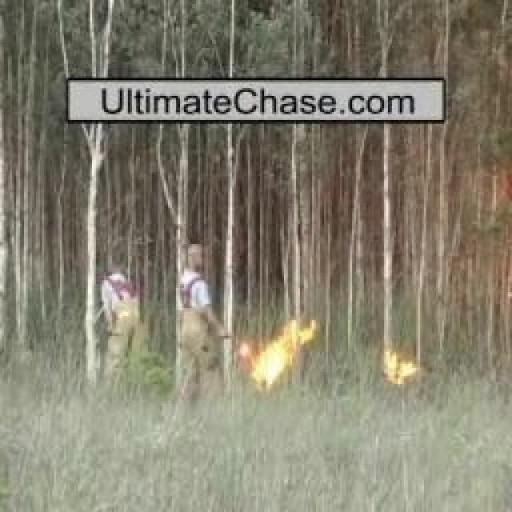smoke: (242, 320, 310, 386), (379, 355, 422, 393)
